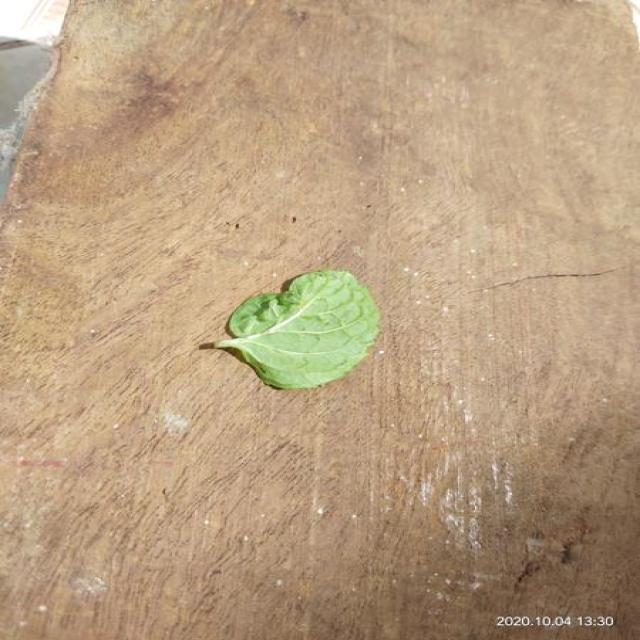mint: (213, 271, 380, 389)
